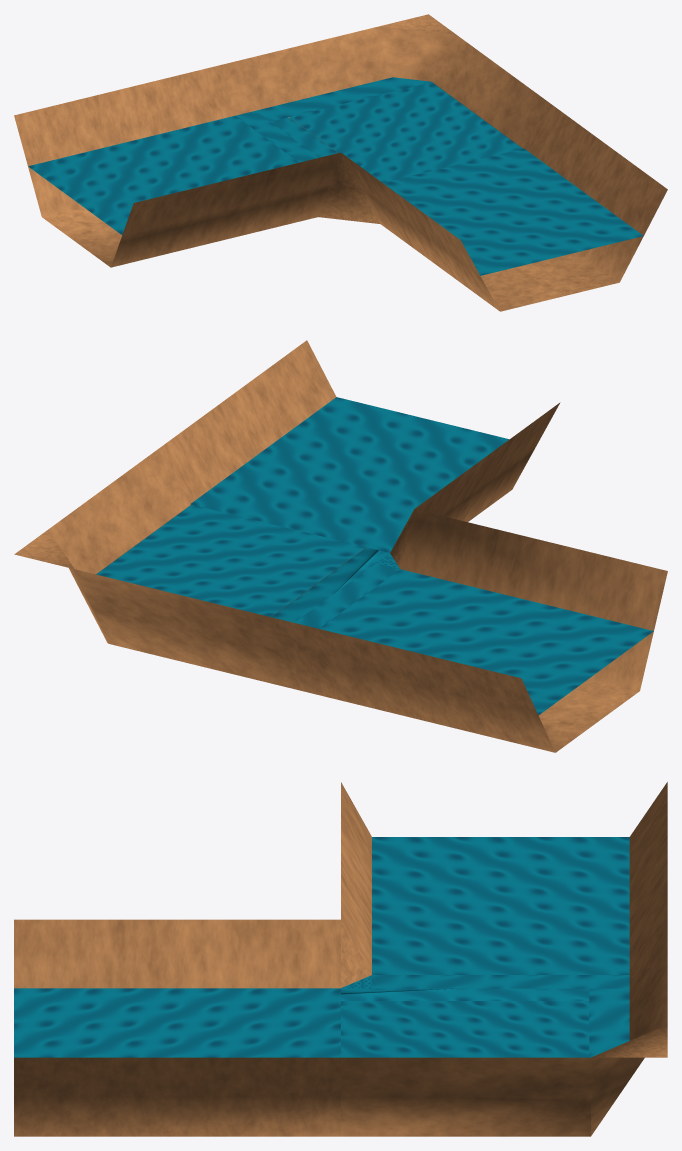
The model's file is moat_corner1.glb.
3 views of the same model, one above another, from view 1: azimuth 30°, elevation 25°; view 2: azimuth 150°, elevation 25°; view 3: azimuth 270°, elevation 25° (orthographic). The views are drawn at different scales.
Visible parts, largest first — view 1: ground; view 2: ground; view 3: ground.
Boxes of the visible parts, box(x1,y1,x2,y2) form: ground: box(14, 14, 667, 311); ground: box(14, 340, 667, 752); ground: box(14, 782, 667, 1136).
Bounding box in the file's own units: 4 × 0.75 × 4.
Materials: 2 (2 with a texture image).
